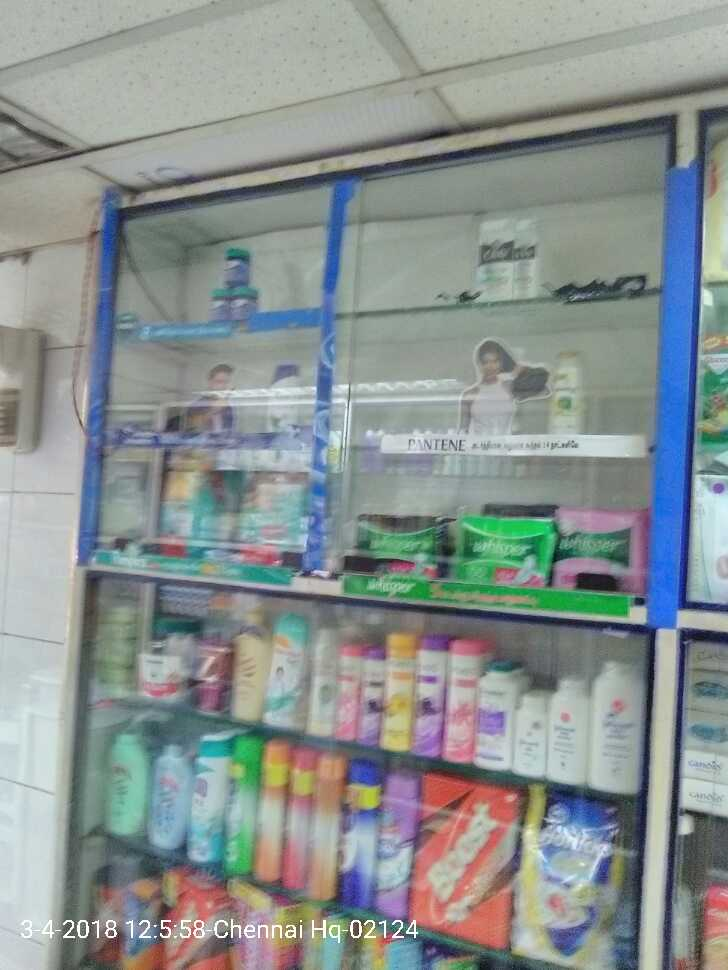vicks: (211, 243, 259, 319)
